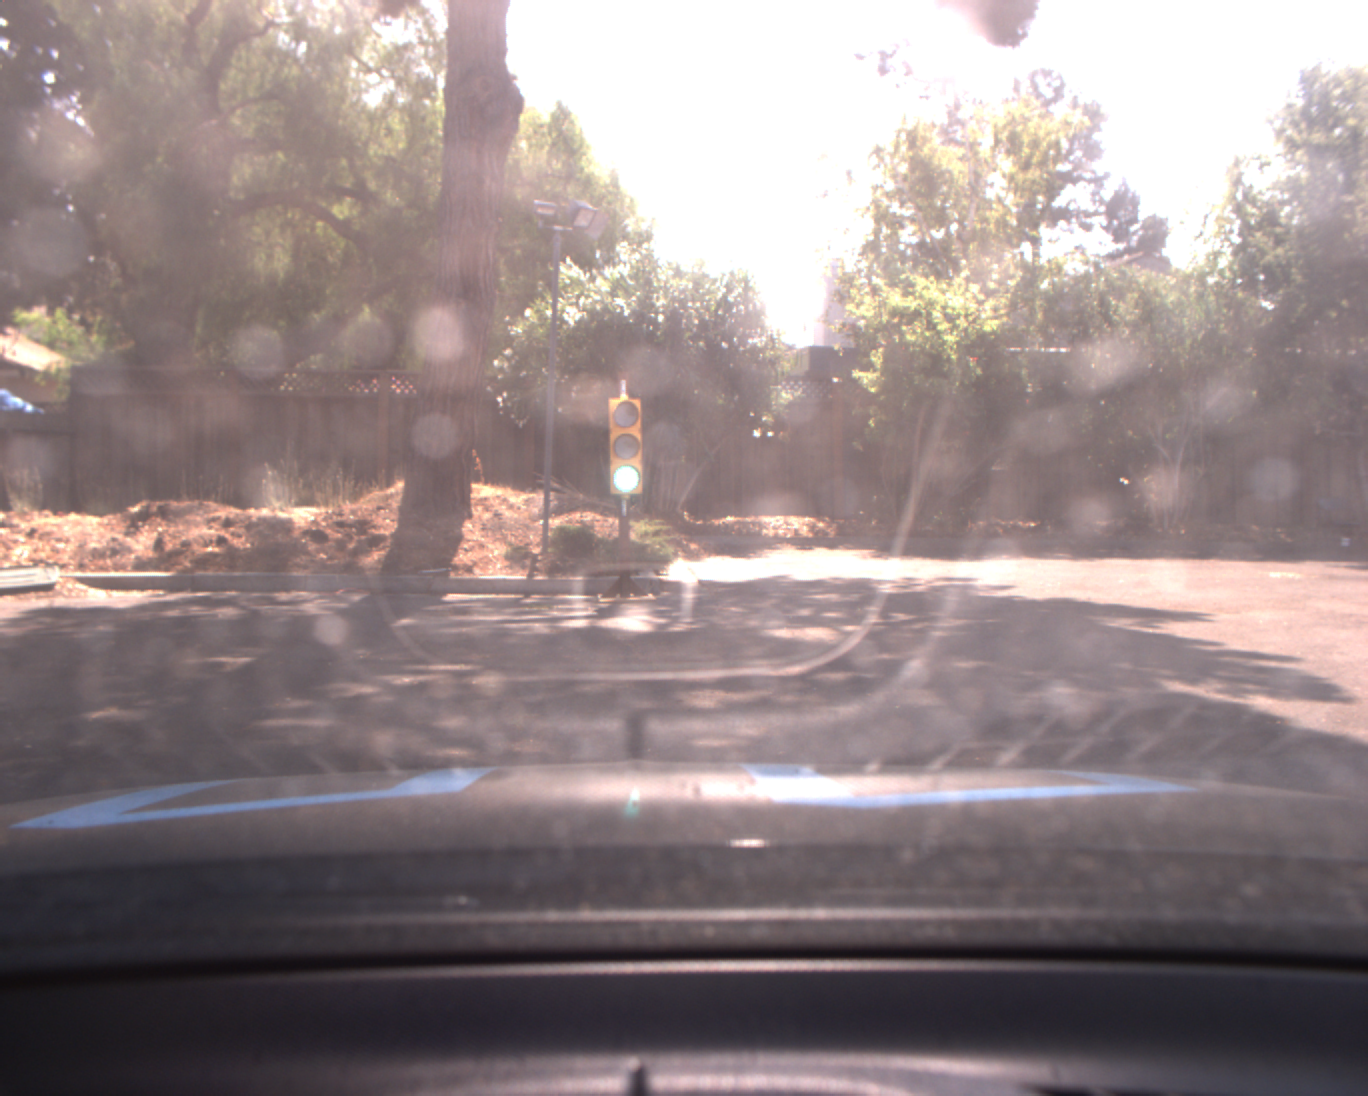green: (603, 393, 649, 497)
